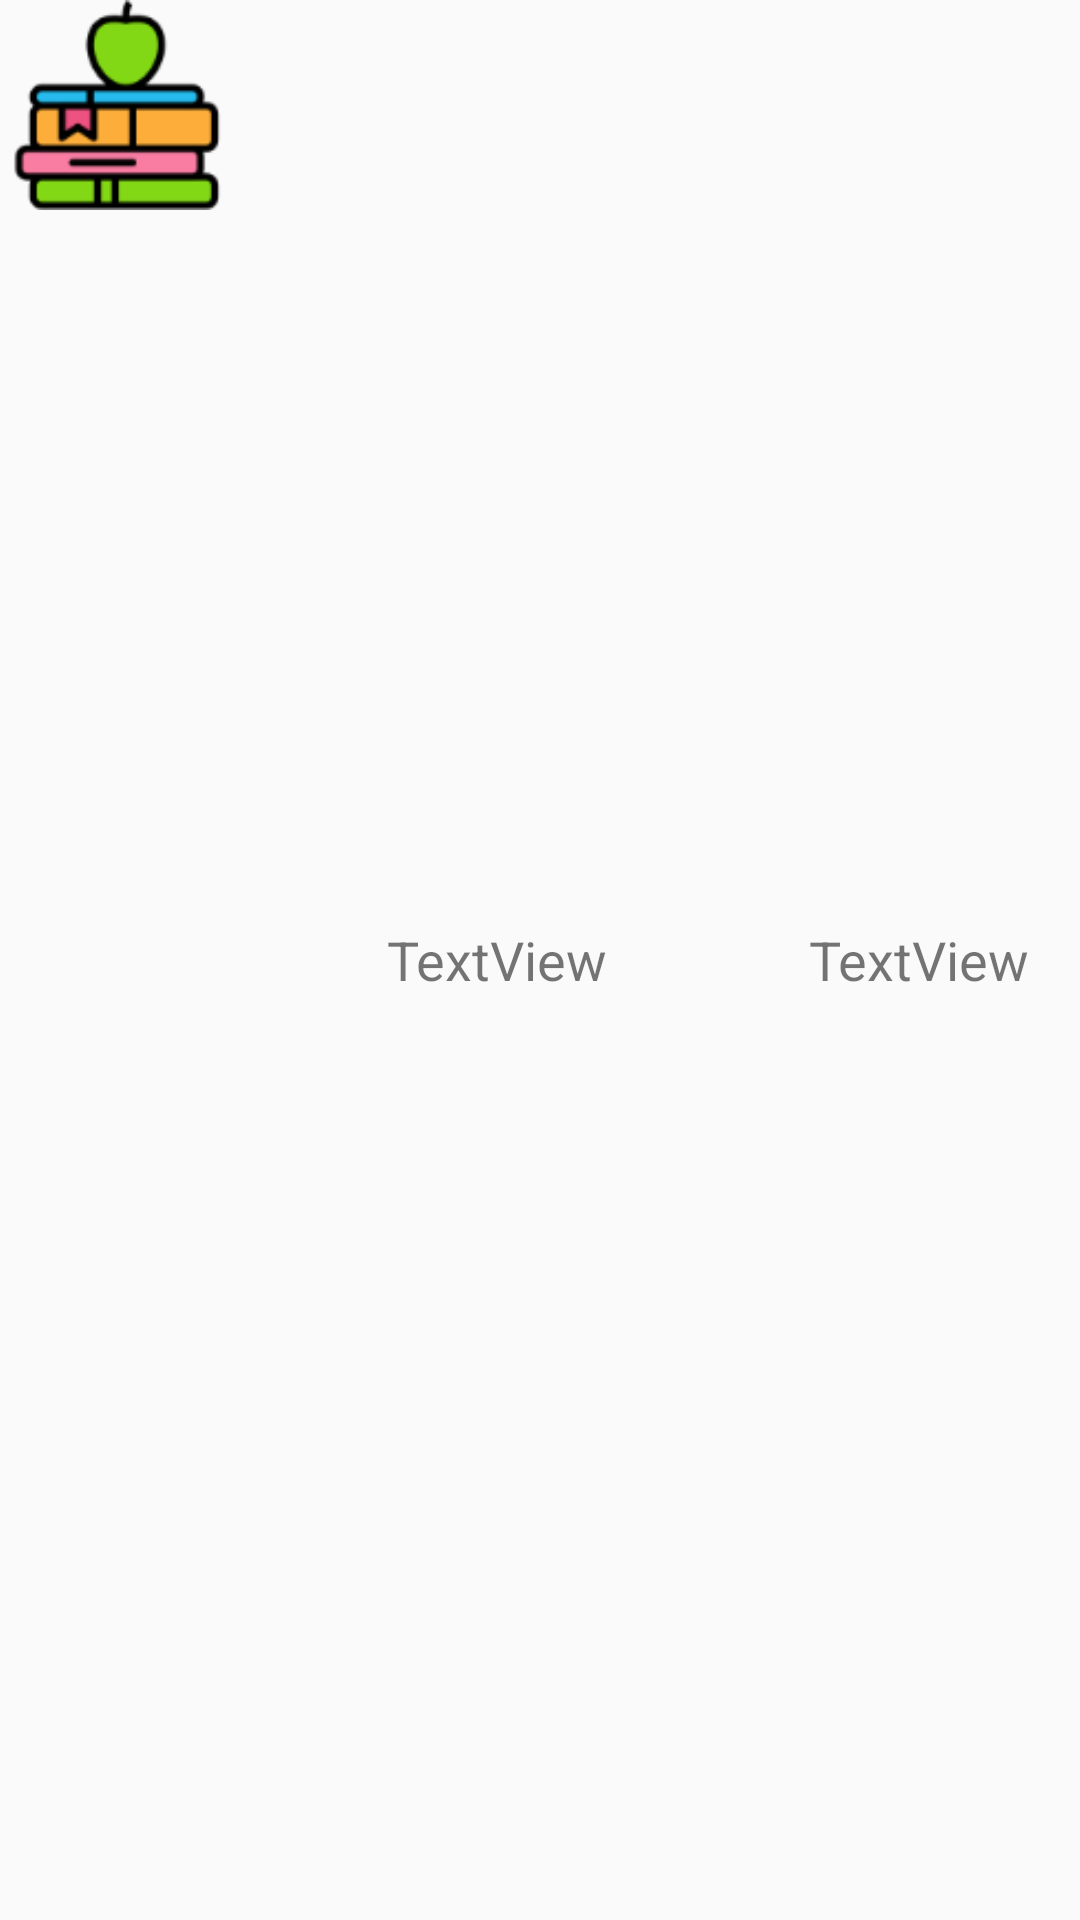

Locate icon controls on the screen. Image size 1080 × 1920, boxes as (x1, y1, x2, y2).
book: (14, 0, 220, 210)
